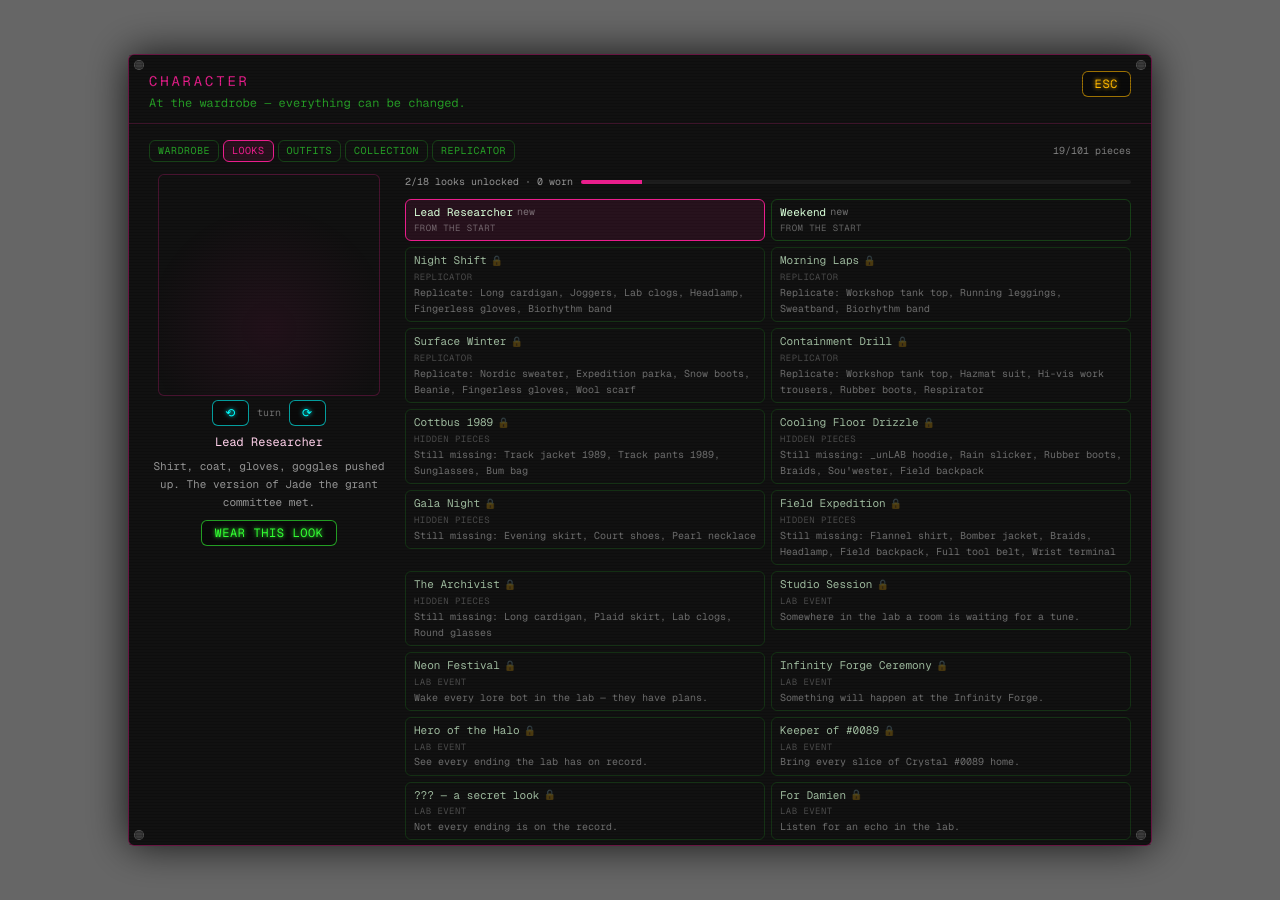
Test: character menu — looks › puts a whole look on at the wardrobe
The width and height of the screenshot is (1280, 900).
Click the button "Weekend new From the start" at [803, 212], box [771,198,1131,241]
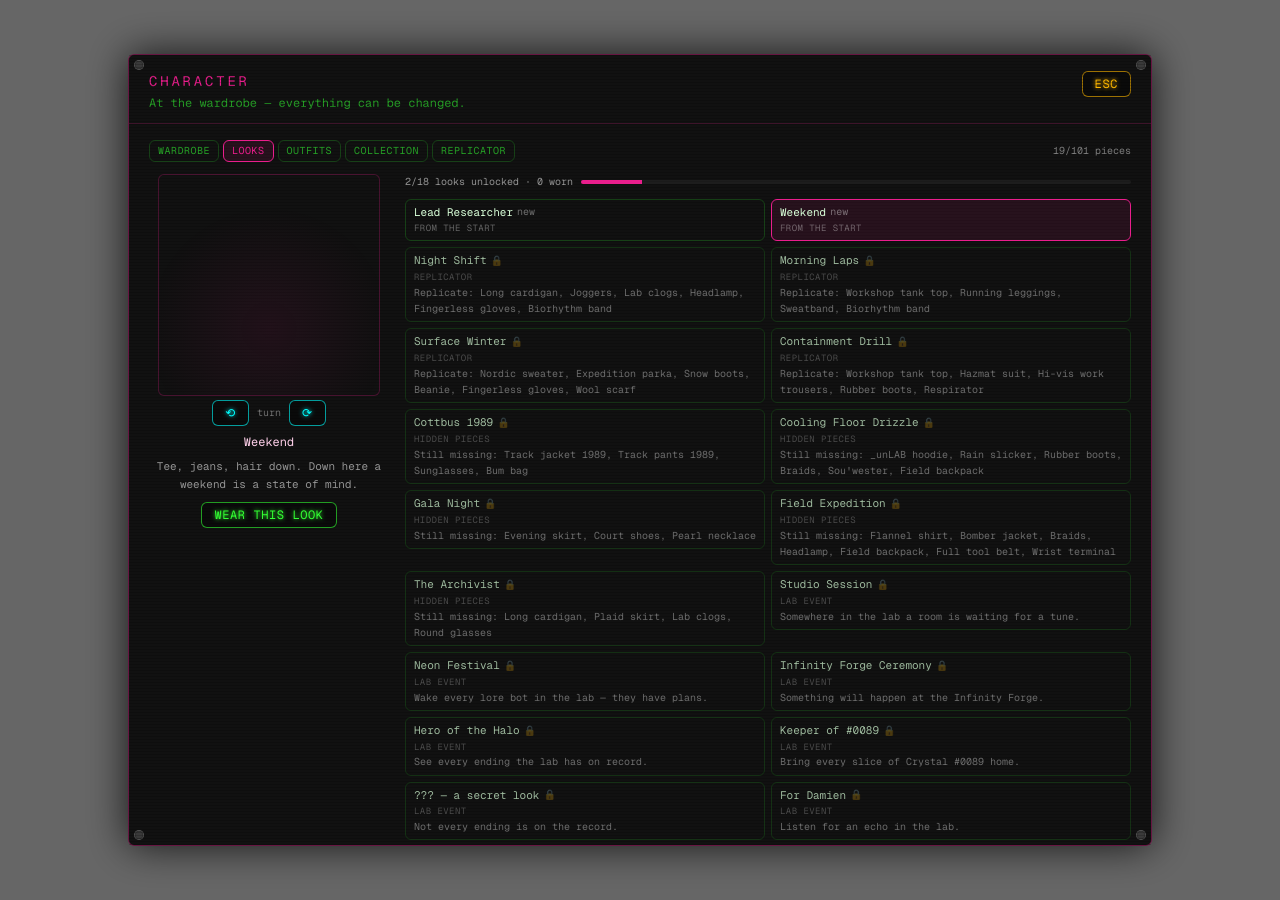
Click the button "Wear this look" at [269, 515], box [201,502,337,528]
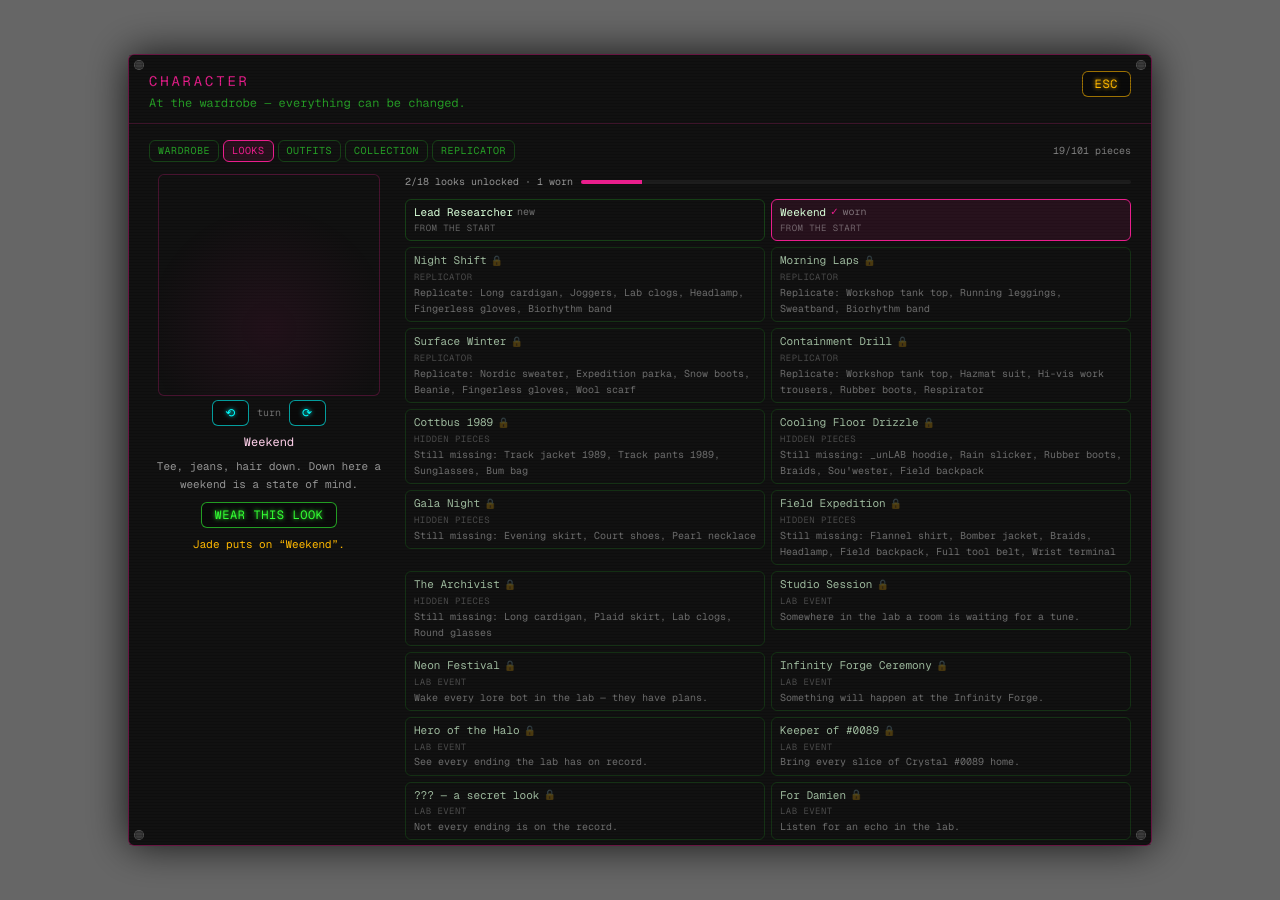
Expected: the message shows "Weekend", [193,537,345,551]
